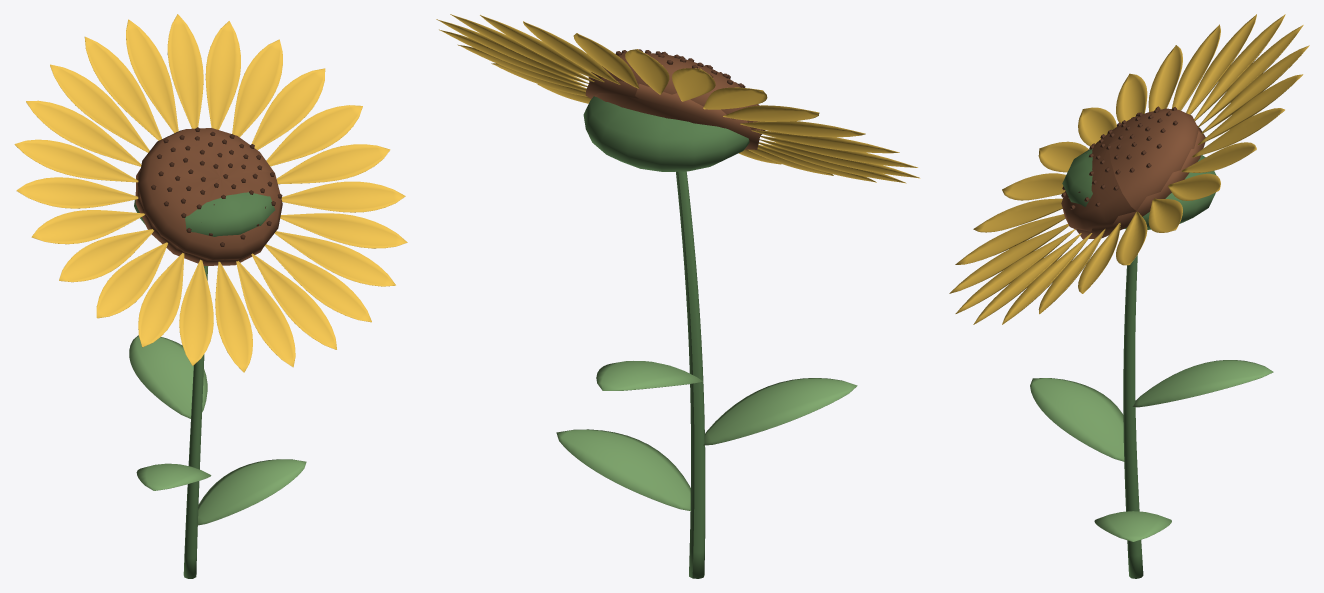
The model's file is sunflower-common-v2.glb.
3 renders of one model, left to right at view 1: azimuth 30°, elevation 25°; view 2: azimuth 150°, elevation 25°; view 3: azimuth 270°, elevation 25°, orthographic. The views are drawn at different scales.
Visible parts, largest first — view 1: sunflower-common-v2-petal, sunflower-common-v2-center, sunflower-common-v2-leaf, sunflower-common-v2-stem, sunflower-common-v2-pollen; view 2: sunflower-common-v2-petal, sunflower-common-v2-stem, sunflower-common-v2-leaf, sunflower-common-v2-center; view 3: sunflower-common-v2-petal, sunflower-common-v2-center, sunflower-common-v2-leaf, sunflower-common-v2-stem, sunflower-common-v2-pollen.
Part boxes in pixels (x1=…): sunflower-common-v2-petal: x1=14, y1=14, x2=407, y2=372; sunflower-common-v2-center: x1=135, y1=128, x2=282, y2=265; sunflower-common-v2-leaf: x1=129, y1=335, x2=306, y2=525; sunflower-common-v2-stem: x1=134, y1=177, x2=275, y2=578; sunflower-common-v2-pollen: x1=151, y1=127, x2=282, y2=246; sunflower-common-v2-petal: x1=436, y1=14, x2=920, y2=183; sunflower-common-v2-stem: x1=583, y1=96, x2=749, y2=578; sunflower-common-v2-leaf: x1=556, y1=361, x2=857, y2=511; sunflower-common-v2-center: x1=585, y1=52, x2=765, y2=149; sunflower-common-v2-petal: x1=949, y1=14, x2=1309, y2=324; sunflower-common-v2-center: x1=1061, y1=108, x2=1205, y2=239; sunflower-common-v2-leaf: x1=1030, y1=360, x2=1273, y2=541; sunflower-common-v2-stem: x1=1062, y1=149, x2=1216, y2=578; sunflower-common-v2-pollen: x1=1061, y1=106, x2=1177, y2=209.
Bounding box in the file's own units: 1.63 × 2.15 × 1.3.
